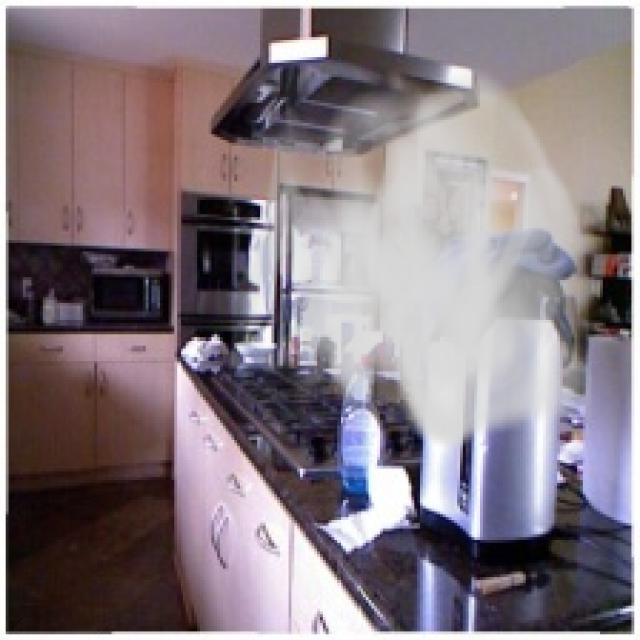Smoke: (226, 57, 603, 452)
